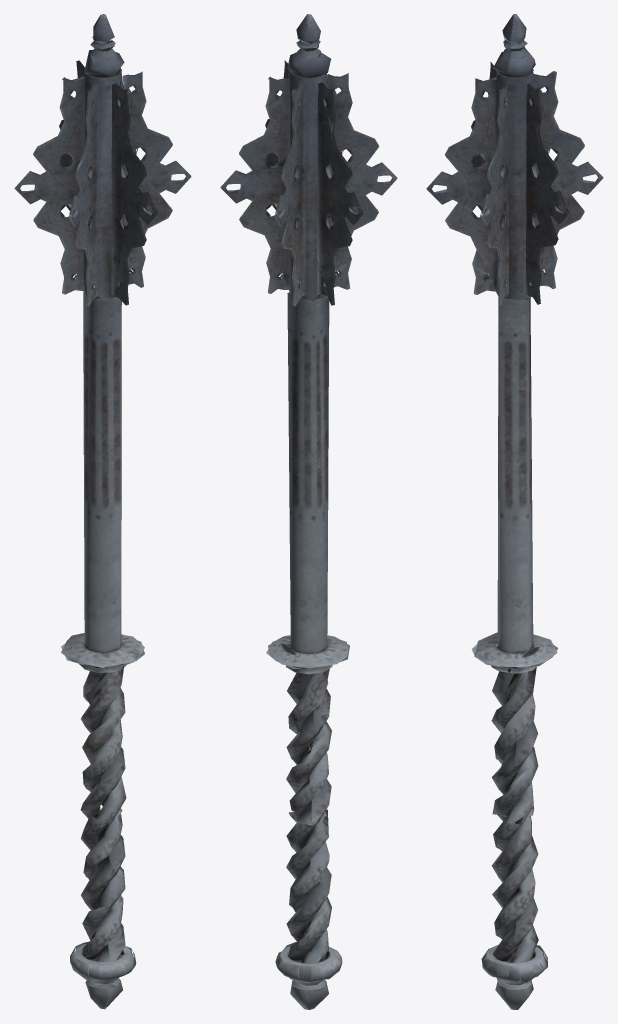
Rendered from ornate_medieval_mace.glb.
3 views of the same model, side by side, from view 1: azimuth 30°, elevation 25°; view 2: azimuth 150°, elevation 25°; view 3: azimuth 270°, elevation 25° (orthographic).
Parts seen in each view (by area): view 1: ornate_medieval_mace; view 2: ornate_medieval_mace; view 3: ornate_medieval_mace.
Part boxes in pixels (left/top/right/bottom): ornate_medieval_mace: left=14, top=14, right=191, bottom=1009; ornate_medieval_mace: left=220, top=14, right=397, bottom=1009; ornate_medieval_mace: left=426, top=14, right=603, bottom=1009.
Size of the model in its own units: 0.095 by 0.6294 by 0.1017.
Materials: 1 (1 with a texture image).
